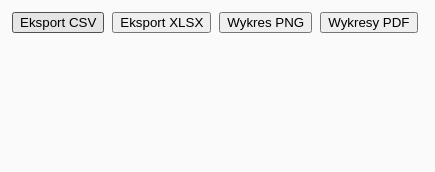
ExportBar › PNG export without a chart gives a Polish error
Click the button "Wykres PNG": (266, 22) [219,12,312,33]
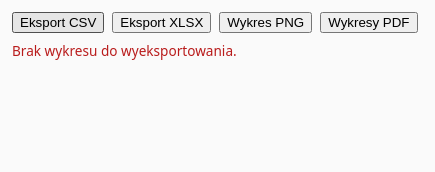
Now the message shows "Brak wykresu", box [12,41,237,60]
